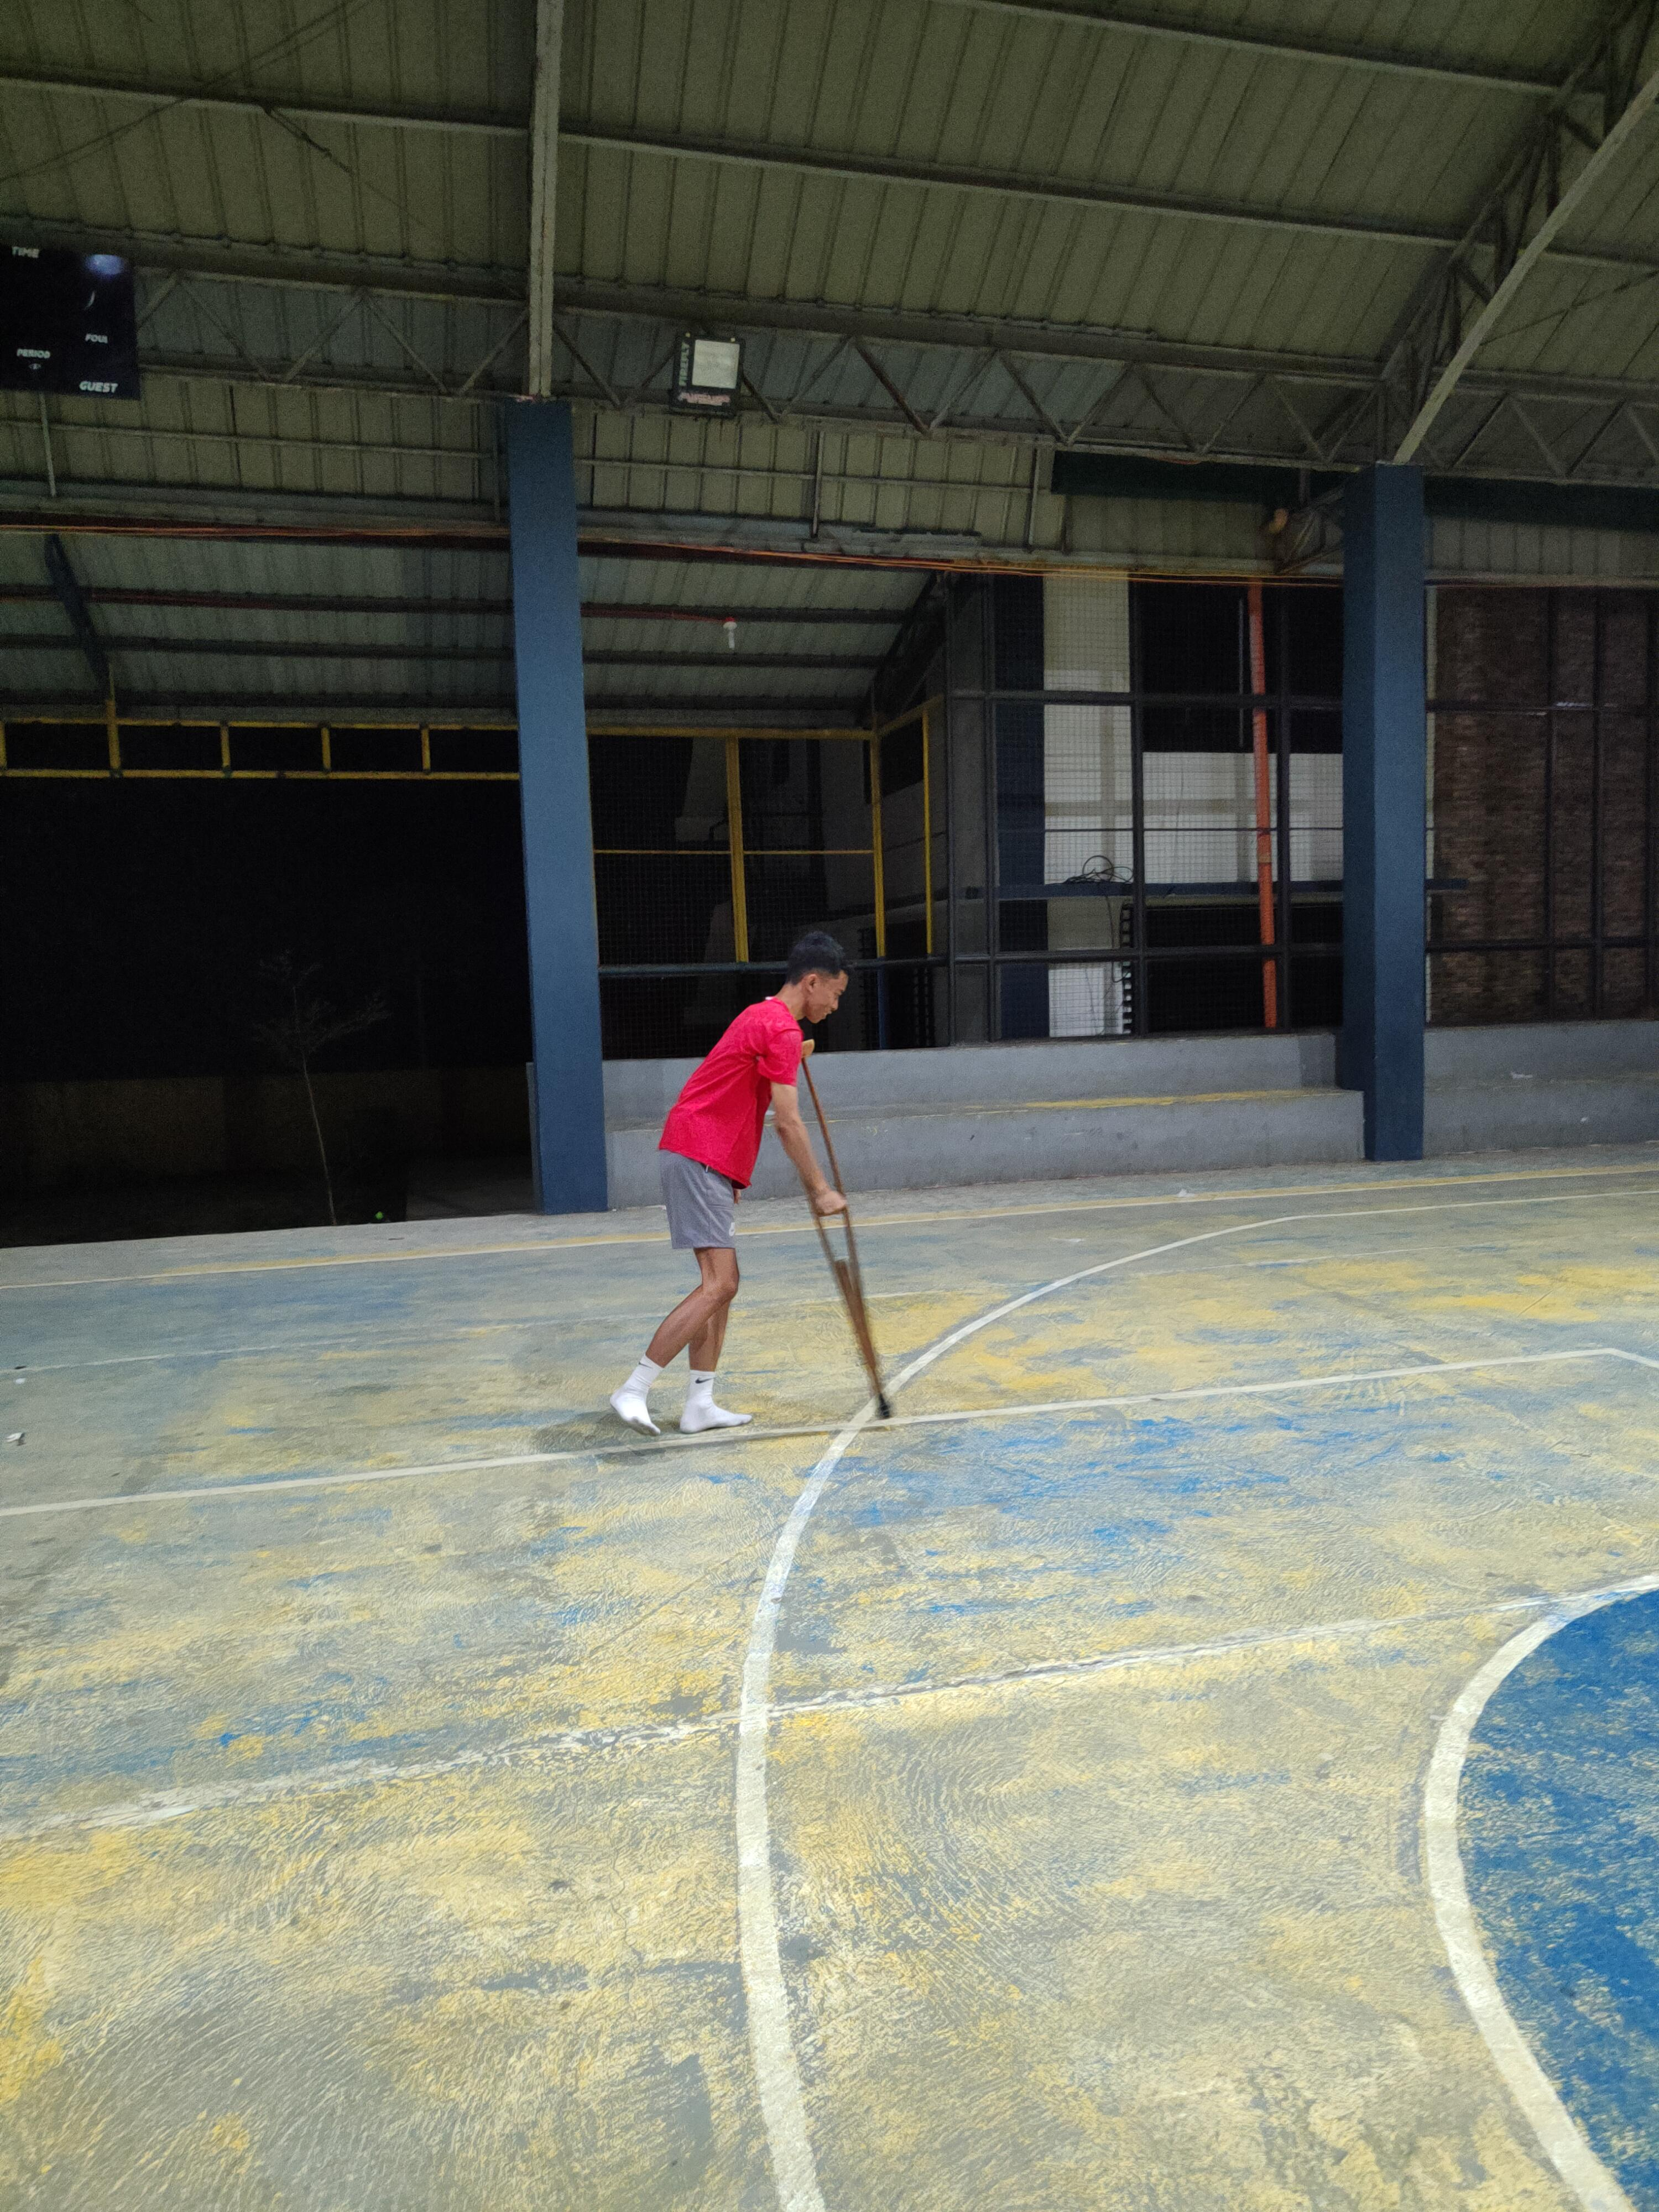crutches: (605, 914, 911, 1447)
